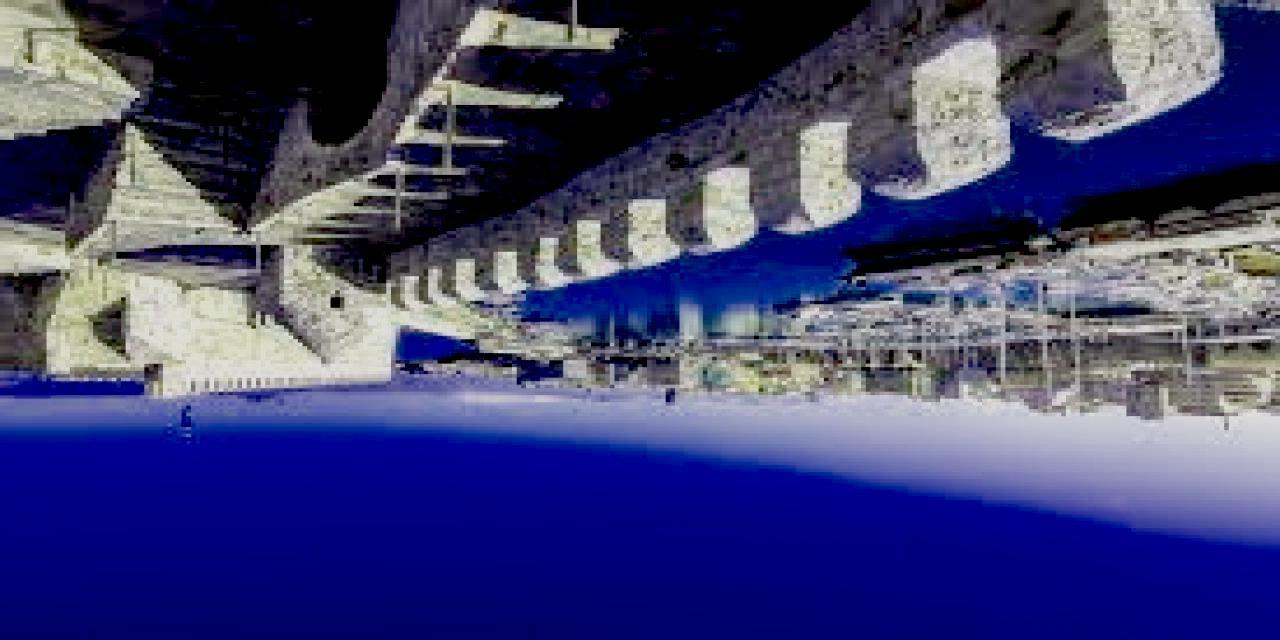Kules: (1, 247, 395, 403)
